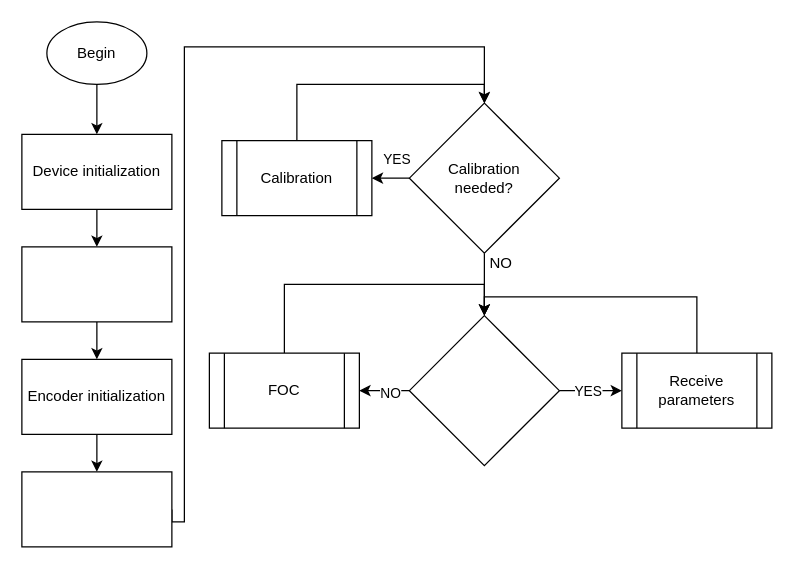
The diagram is 794 pixels wide and 569 high, and some of its shapes have lost their labels. The centre of each missing label's shape, as x and y in pixels:
Command from Trajectory system received ?: the point at 483,390
Communication initialization: the point at 96,284
Status indication: the point at 96,509
